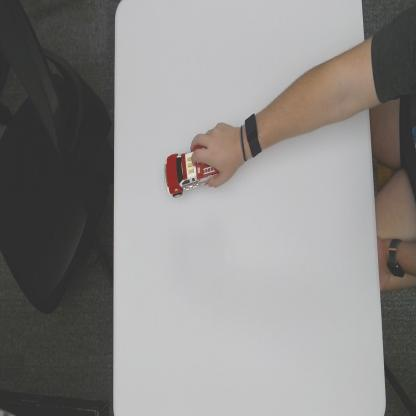Arm: (264, 25, 376, 152)
Firetruck: (164, 144, 224, 199)
Hand: (192, 117, 242, 189)
